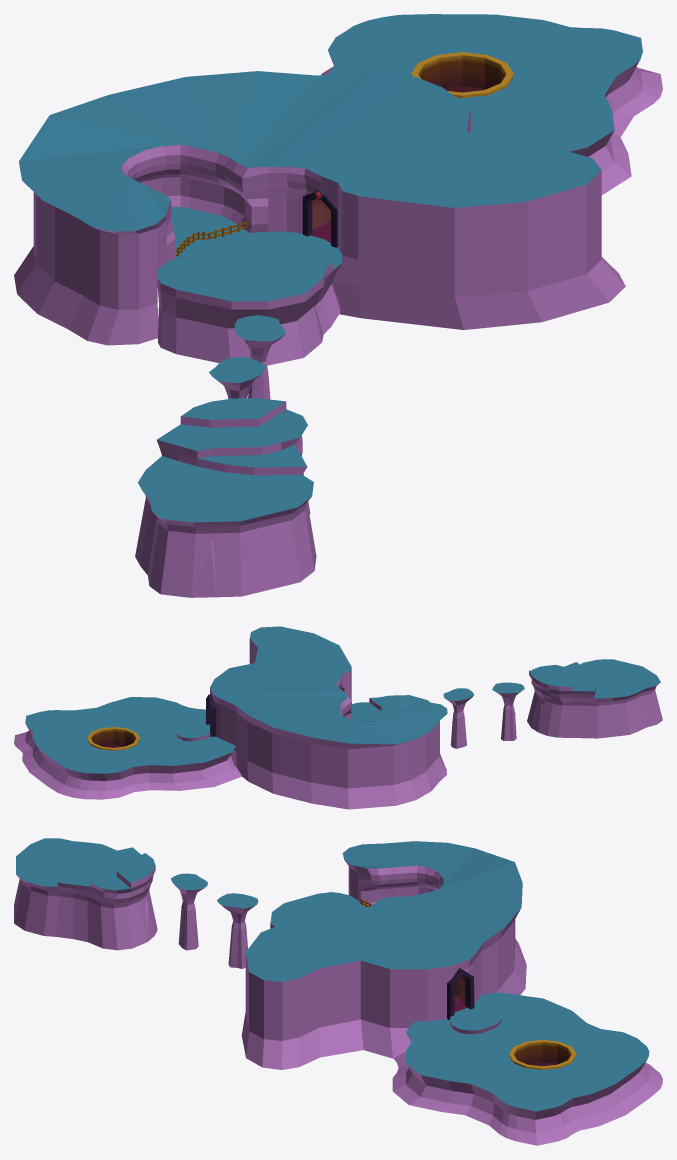
File: vertex_colour.glb
3 renders of one model, top to bottom at view 1: azimuth 30°, elevation 25°; view 2: azimuth 150°, elevation 25°; view 3: azimuth 270°, elevation 25°, orthographic. The views are drawn at different scales.
Visible parts, largest first — view 1: Walls, Island1, Island2, Charging Pen, Pit, Platform2, Platform1, Arch; view 2: Walls, Island2, Island1, Charging Pen, Pit, Platform2, Platform1, Platform3, Exit; view 3: Walls, Island2, Island1, Charging Pen, Pit, Platform2, Platform1, Platform3, Exit.
Boxes of the visible parts, bbox=[...] form: Walls: bbox=[14, 70, 625, 345]; Island1: bbox=[135, 398, 316, 597]; Island2: bbox=[321, 14, 662, 195]; Charging Pen: bbox=[157, 206, 342, 365]; Pit: bbox=[411, 52, 513, 98]; Platform2: bbox=[234, 315, 285, 399]; Platform1: bbox=[209, 357, 265, 398]; Arch: bbox=[302, 192, 337, 247]; Walls: bbox=[210, 626, 447, 809]; Island2: bbox=[14, 697, 241, 799]; Island1: bbox=[527, 659, 662, 738]; Charging Pen: bbox=[351, 695, 430, 721]; Pit: bbox=[87, 727, 140, 750]; Platform2: bbox=[443, 688, 474, 748]; Platform1: bbox=[492, 682, 524, 740]; Platform3: bbox=[172, 720, 210, 741]; Exit: bbox=[206, 694, 216, 736]; Walls: bbox=[241, 841, 526, 1069]; Island2: bbox=[392, 992, 662, 1145]; Island1: bbox=[14, 838, 157, 950]; Charging Pen: bbox=[270, 892, 367, 928]; Pit: bbox=[509, 1039, 576, 1069]; Platform2: bbox=[217, 893, 258, 968]; Platform1: bbox=[171, 873, 207, 950]; Platform3: bbox=[449, 1007, 501, 1034]; Exit: bbox=[447, 968, 474, 1020].
Size of what is drawn, in the model's own units: 590 by 101 by 575.
